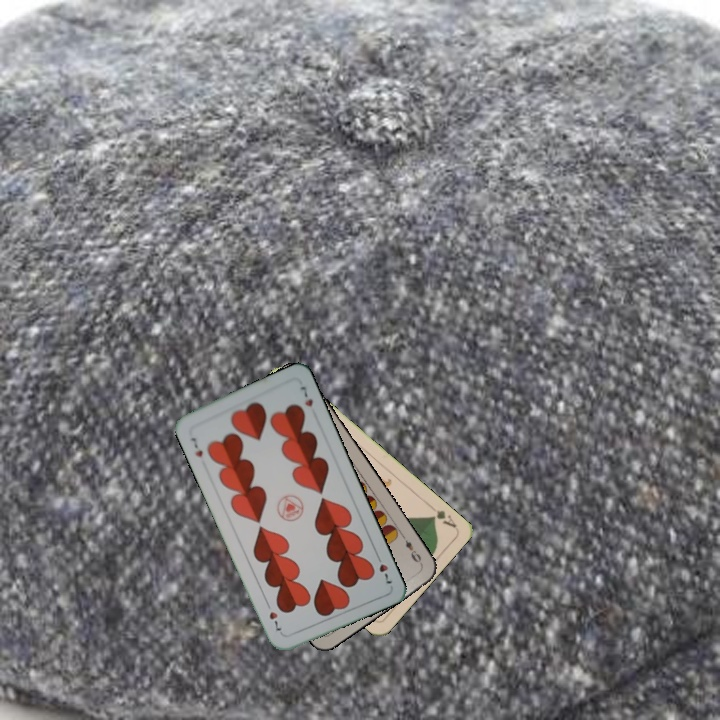E9: (398, 531, 425, 568)
GA: (425, 500, 459, 531)
H7: (372, 550, 395, 588), (187, 433, 205, 459)
